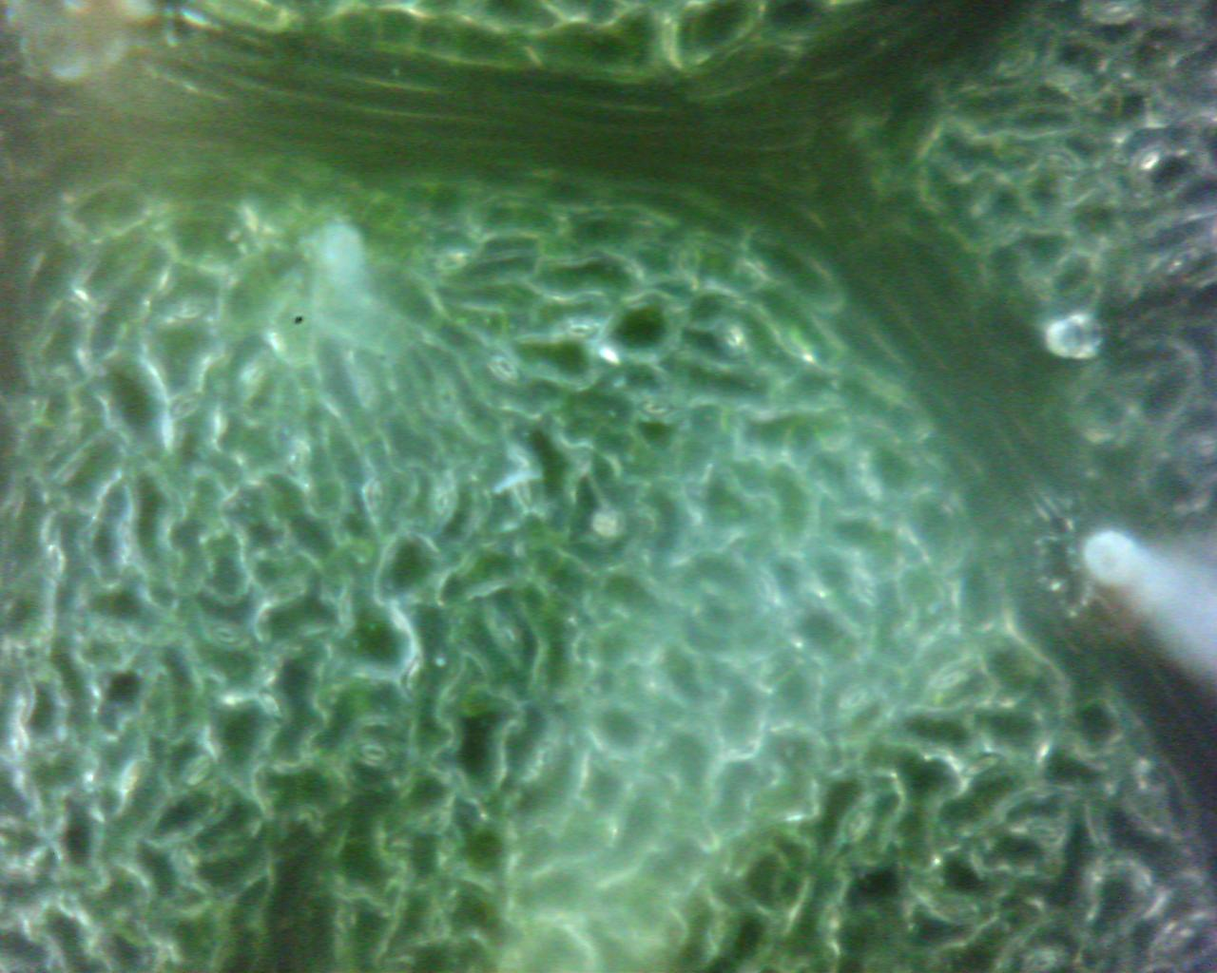stomata: (402, 658, 429, 699), (354, 740, 396, 766), (96, 622, 132, 650), (173, 845, 200, 882), (564, 319, 600, 343), (288, 442, 312, 478), (209, 624, 250, 645), (1029, 821, 1062, 847), (185, 758, 212, 789), (639, 396, 675, 419), (845, 810, 870, 843), (965, 755, 1004, 776), (493, 357, 525, 381), (170, 394, 202, 418), (367, 479, 388, 515), (532, 744, 557, 773), (515, 474, 535, 510), (1024, 949, 1058, 969), (755, 574, 775, 606), (1133, 149, 1161, 171), (1047, 153, 1079, 172), (263, 691, 284, 719), (841, 688, 870, 708), (174, 304, 209, 319)
